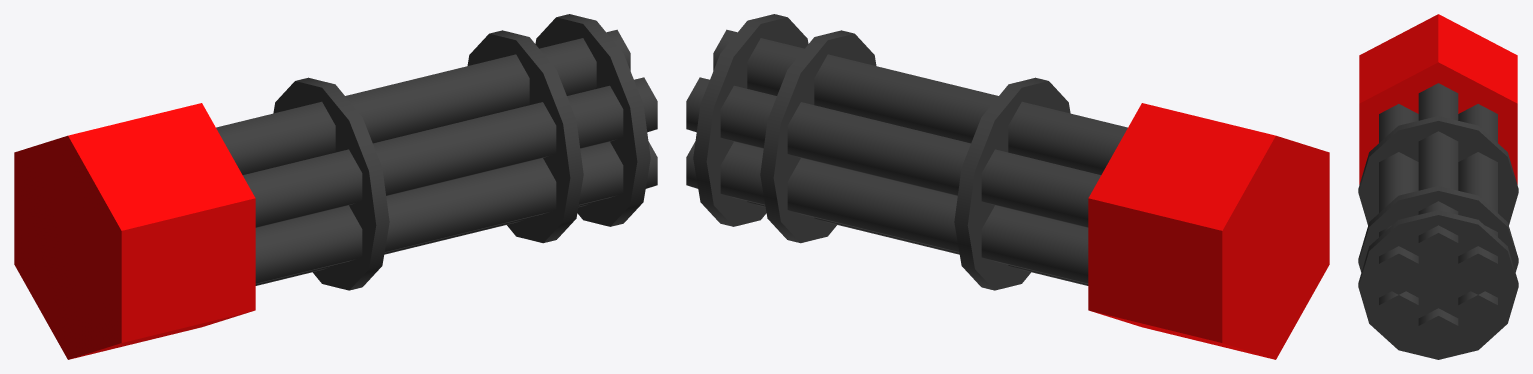
Rendered from minigun.glb.
3 renders of one model, left to right at view 1: azimuth 30°, elevation 25°; view 2: azimuth 150°, elevation 25°; view 3: azimuth 270°, elevation 25°, orthographic. The views are drawn at different scales.
Visible parts, largest first — view 1: Cylinder.009, Cylinder.003, Cylinder.005, Cylinder.001, Cylinder.007, Cylinder.008, Cylinder.006, Cylinder; view 2: Cylinder.009, Cylinder.004, Cylinder.002, Cylinder.001, Cylinder.007, Cylinder.008, Cylinder.006, Cylinder; view 3: Cylinder.009, Cylinder.006, Cylinder.008, Cylinder.001, Cylinder.003, Cylinder.004, Cylinder.007, Cylinder, Cylinder.002, Cylinder.005.
Boxes of the visible parts, <box> form: Cylinder.009: <box>14,103,255,359</box>; Cylinder.003: <box>243,77,657,227</box>; Cylinder.005: <box>255,141,657,283</box>; Cylinder.001: <box>216,29,630,174</box>; Cylinder.007: <box>467,30,583,243</box>; Cylinder.008: <box>273,77,389,290</box>; Cylinder.006: <box>535,14,650,226</box>; Cylinder: <box>255,201,596,285</box>; Cylinder.009: <box>1088,103,1329,359</box>; Cylinder.004: <box>686,77,1100,227</box>; Cylinder.002: <box>686,141,1088,283</box>; Cylinder.001: <box>713,29,1127,174</box>; Cylinder.007: <box>760,30,876,243</box>; Cylinder.008: <box>954,77,1070,290</box>; Cylinder.006: <box>693,14,808,226</box>; Cylinder: <box>747,201,1088,285</box>; Cylinder.009: <box>1359,14,1517,184</box>; Cylinder.006: <box>1358,210,1518,359</box>; Cylinder.008: <box>1358,116,1518,225</box>; Cylinder.001: <box>1418,83,1458,273</box>; Cylinder.003: <box>1379,104,1418,294</box>; Cylinder.004: <box>1458,104,1497,294</box>; Cylinder.007: <box>1358,186,1518,272</box>; Cylinder: <box>1418,308,1458,356</box>; Cylinder.002: <box>1458,291,1497,336</box>; Cylinder.005: <box>1379,291,1418,336</box>.
Bounding box in the file's own units: 2.05 × 0.8 × 0.7.
